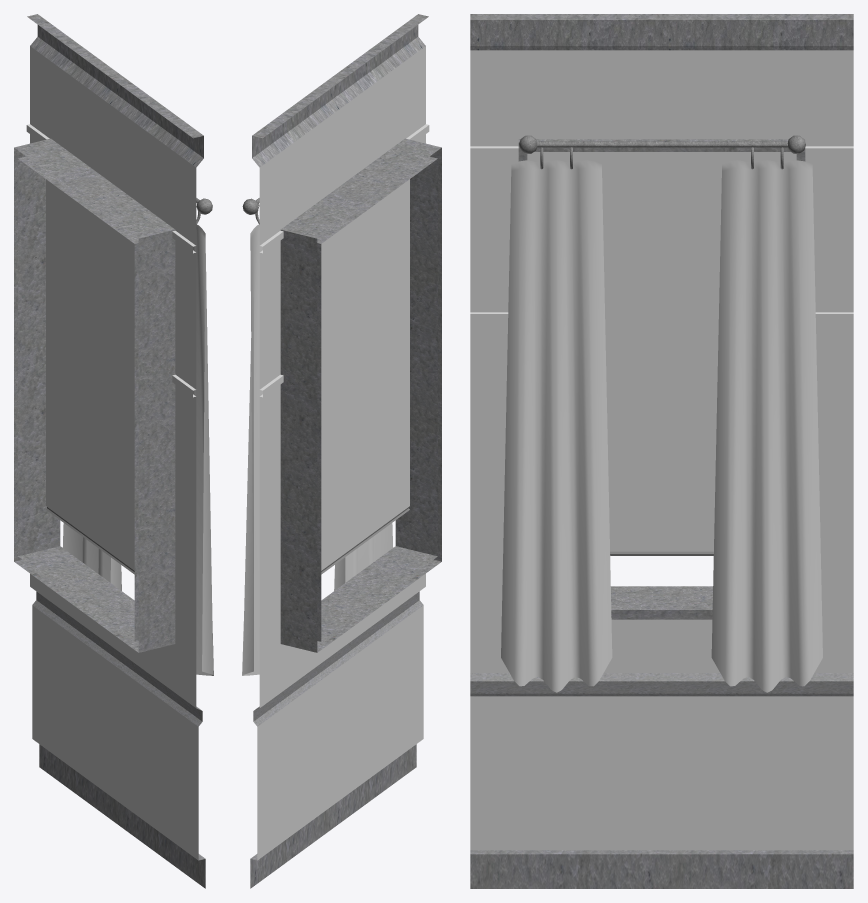
Rendered from P_Window.fbx.
3 renders of one model, left to right at view 1: azimuth 30°, elevation 25°; view 2: azimuth 150°, elevation 25°; view 3: azimuth 270°, elevation 25°, orthographic. The views are drawn at different scales.
Visible parts, largest first — view 1: P_Doorway.007; view 2: P_Doorway.007; view 3: P_Doorway.007.
Part boxes in pixels (x1,y1,x2,y2): P_Doorway.007: (14, 14, 213, 888); P_Doorway.007: (242, 14, 441, 888); P_Doorway.007: (470, 14, 853, 888).
Bounding box in the file's own units: 107 × 1000 × 400.
